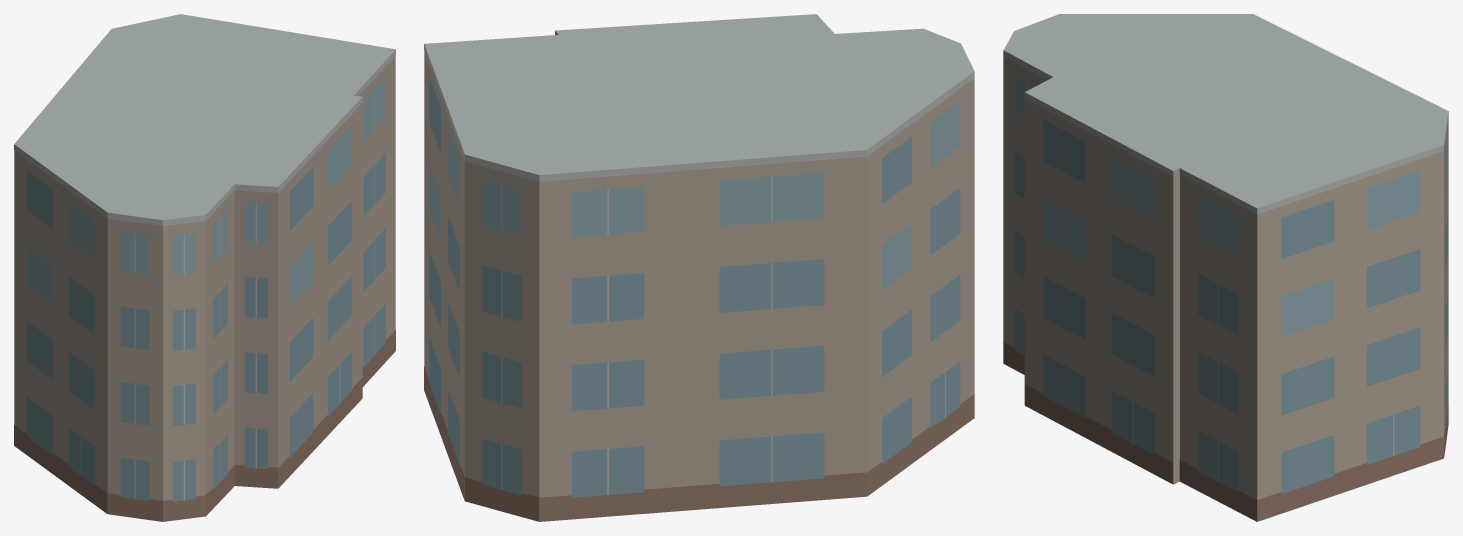
The model's file is survey-upis-32835186.glb.
3 views of the same model, side by side, from view 1: azimuth 30°, elevation 25°; view 2: azimuth 150°, elevation 25°; view 3: azimuth 270°, elevation 25° (orthographic). The views are drawn at different scales.
Parts seen in each view (by area): view 1: survey-upis-32835186.tmp; view 2: survey-upis-32835186.tmp; view 3: survey-upis-32835186.tmp.
Part boxes in pixels (left/top/right/bottom): survey-upis-32835186.tmp: left=14, top=14, right=395, bottom=521; survey-upis-32835186.tmp: left=424, top=14, right=974, bottom=521; survey-upis-32835186.tmp: left=1003, top=14, right=1448, bottom=521.
Size of the model in its own units: 16.65 by 12.5 by 16.1.
